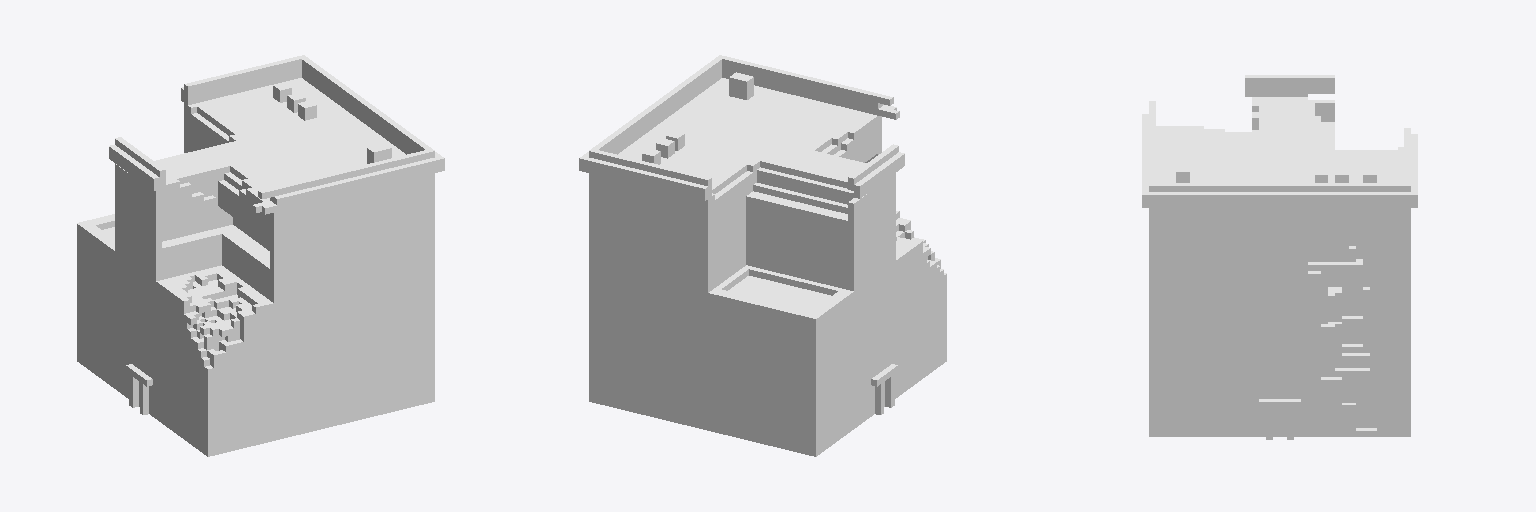
The model's file is BigBuildingBroke.obj.
3 renders of one model, left to right at view 1: azimuth 30°, elevation 25°; view 2: azimuth 150°, elevation 25°; view 3: azimuth 270°, elevation 25°, orthographic.
Parts seen in each view (by area): view 1: BigBuildingBroke; view 2: BigBuildingBroke; view 3: BigBuildingBroke.
Part boxes in pixels (bbox=[...]): BigBuildingBroke: bbox=[77, 55, 444, 456]; BigBuildingBroke: bbox=[579, 55, 946, 456]; BigBuildingBroke: bbox=[1142, 75, 1417, 439].
Bounding box in the file's own units: 40 × 40 × 40.